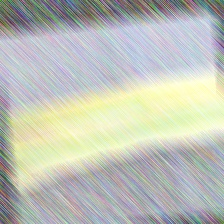Leaf_Blast: (11, 95, 224, 147)
